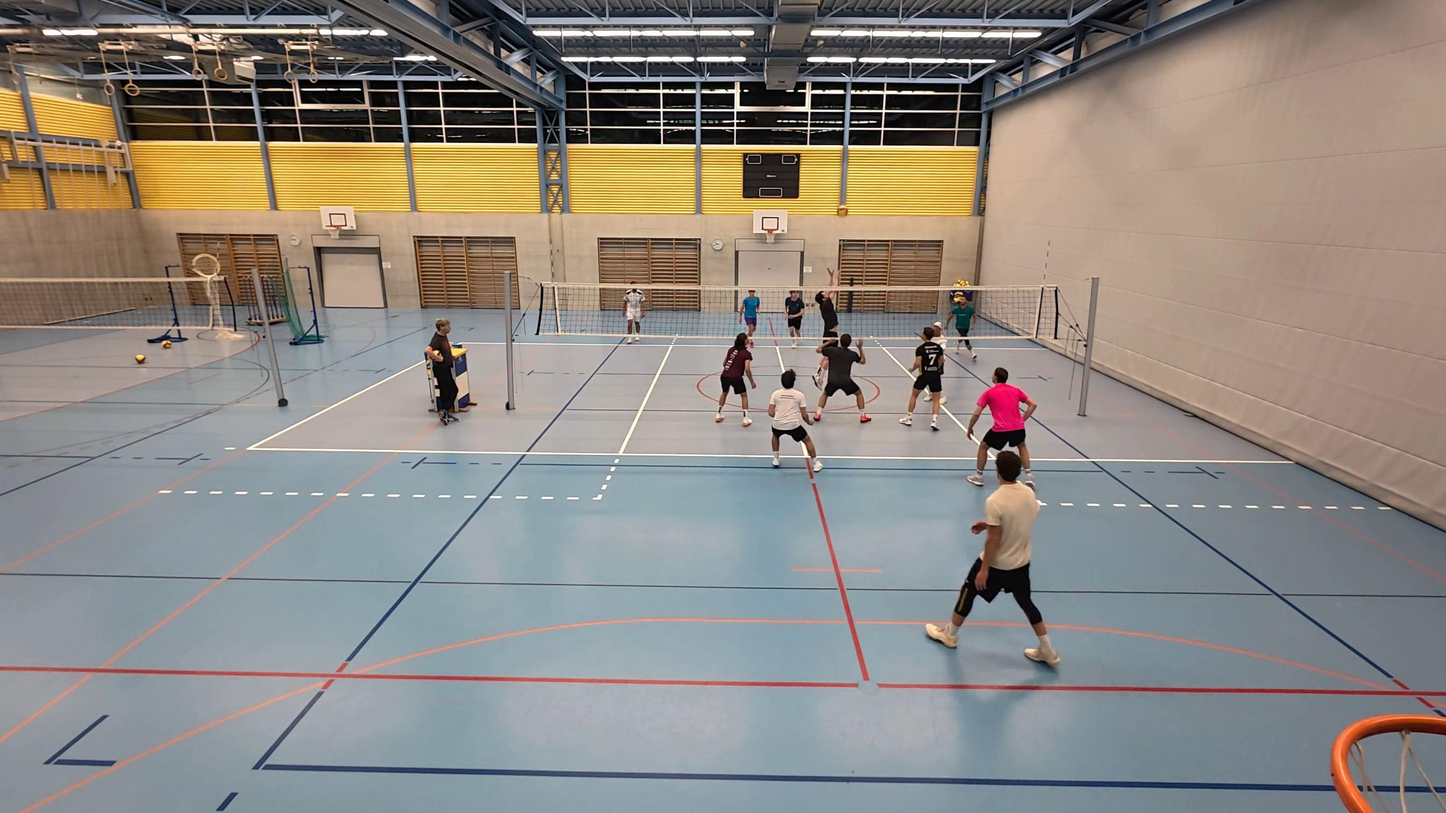Player: (927, 450, 1061, 665), (967, 367, 1036, 486), (767, 369, 822, 473), (810, 332, 872, 424), (900, 325, 947, 431), (714, 332, 757, 426), (944, 293, 981, 367), (783, 288, 807, 349), (738, 288, 764, 340), (622, 283, 644, 344)
ball: (834, 203, 850, 218), (953, 280, 969, 291)
